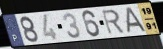3: (62, 12, 81, 39)
4: (42, 13, 59, 42)
6: (82, 10, 102, 38)
8: (20, 16, 40, 44)
A: (125, 6, 148, 34)
R: (101, 8, 127, 36)
